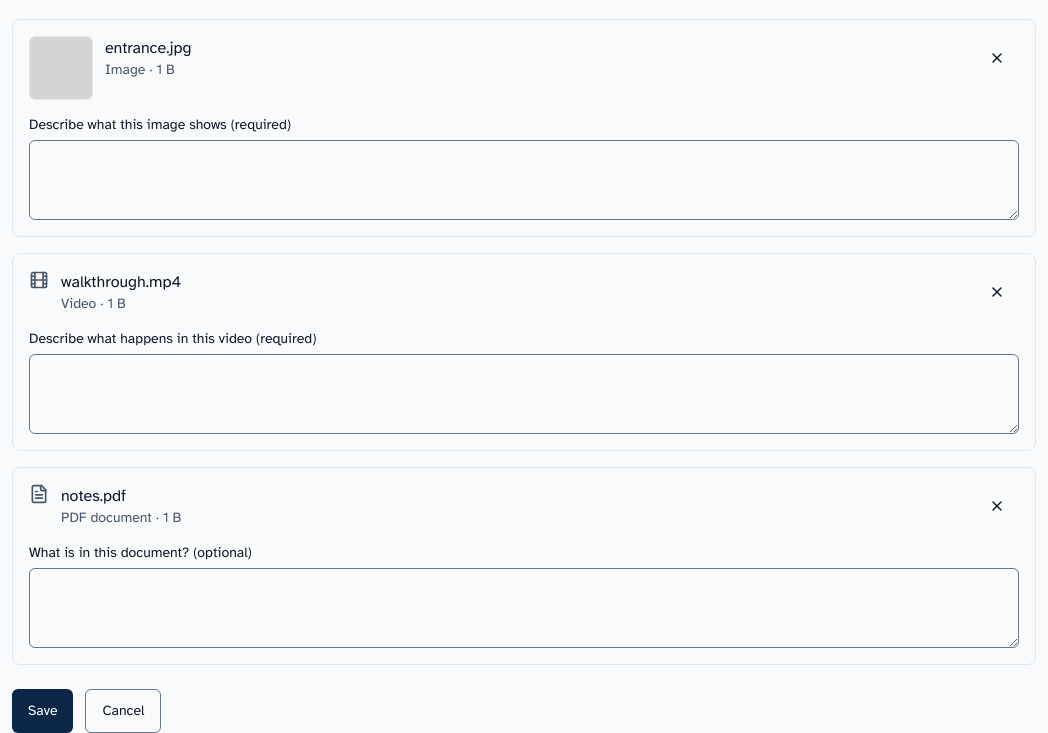
Test case: ProblemForm accessibility (axe) › lists every problem after a failed submit, still without violations
The image size is (1048, 733).
(page scrolled)
Click the button "Save". click: (43, 711)
box: [12,689,73,732]
(page scrolled)
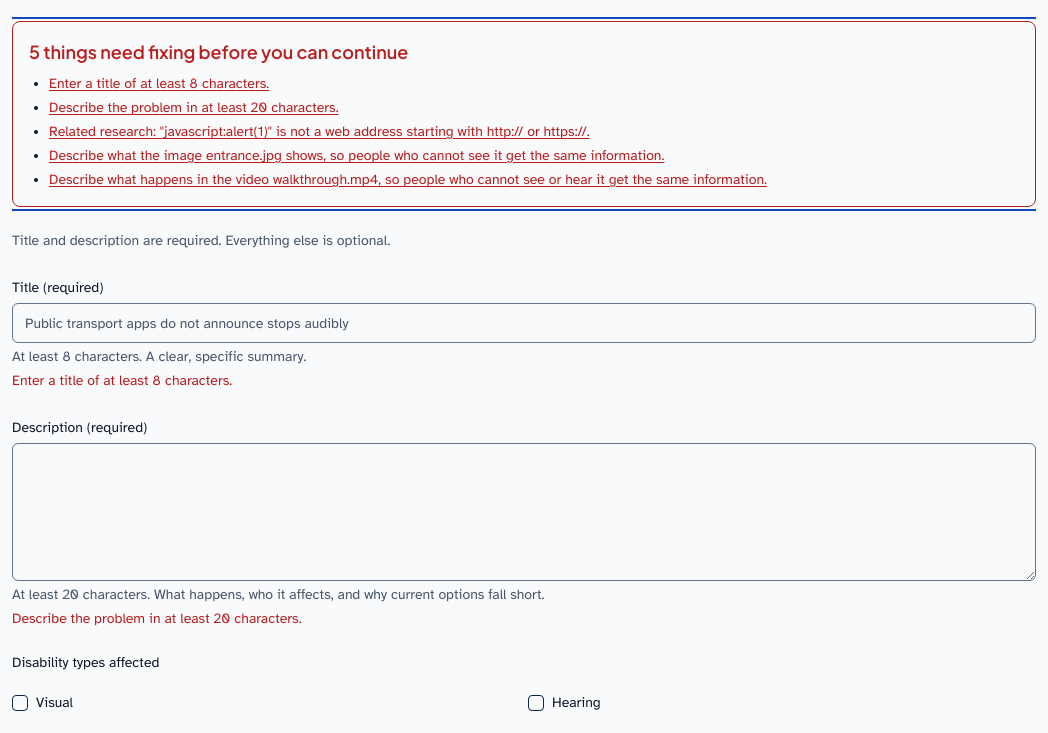
Check: the heading "5 things need fixing before you can continue" is shown, box [29,40,408,63]
